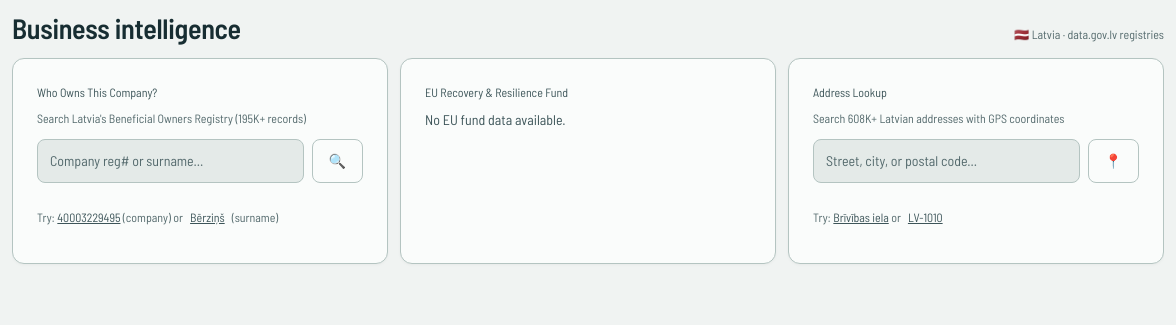
Test: API failures reach the reader › shows an accessible error for Search Latvian addresses and clears it after retry
The image size is (1176, 325).
Type "Riga" into the field named "Search Latvian addresses" at (946, 161), box [813,139,1080,183]
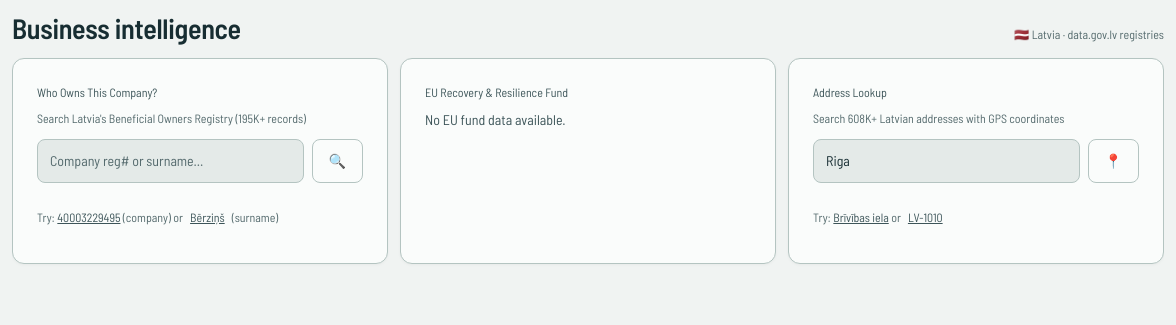
Click the button named "Search addresses" at (1113, 161), box [1088,139,1139,183]
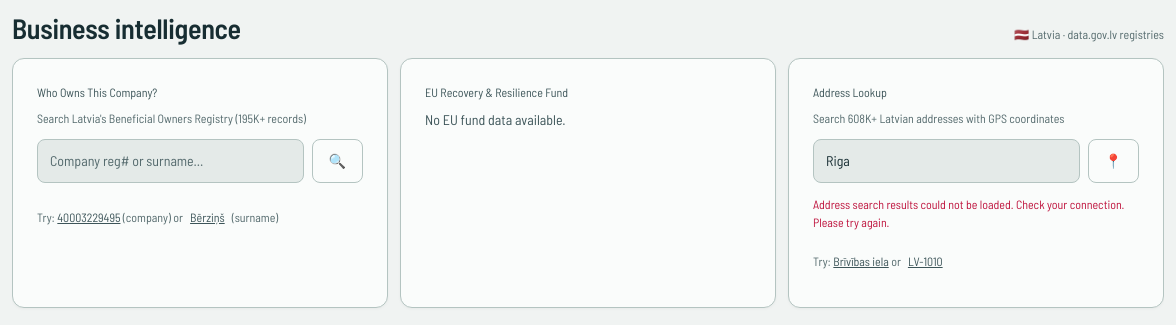
Check: the message shows "Please try again", box [813,197,1124,229]
Click the button named "Search addresses" at (1113, 161), box [1088,139,1139,183]
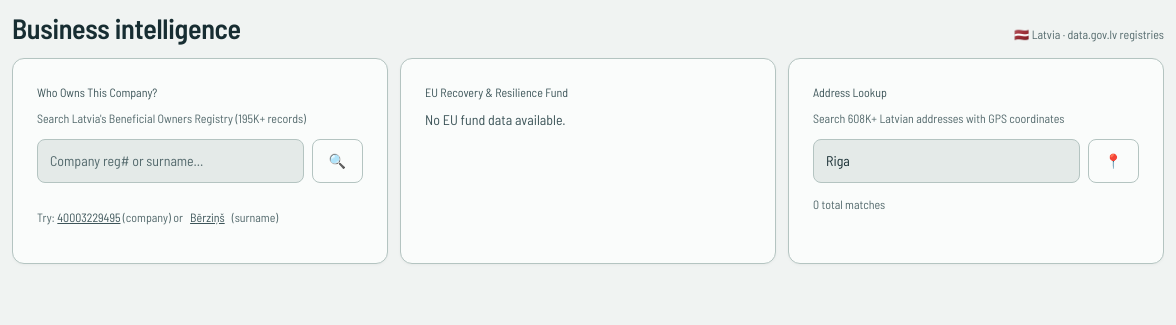
Check: the text "0 total matches" is shown, box [813,197,885,211]
Check: the message is gone
